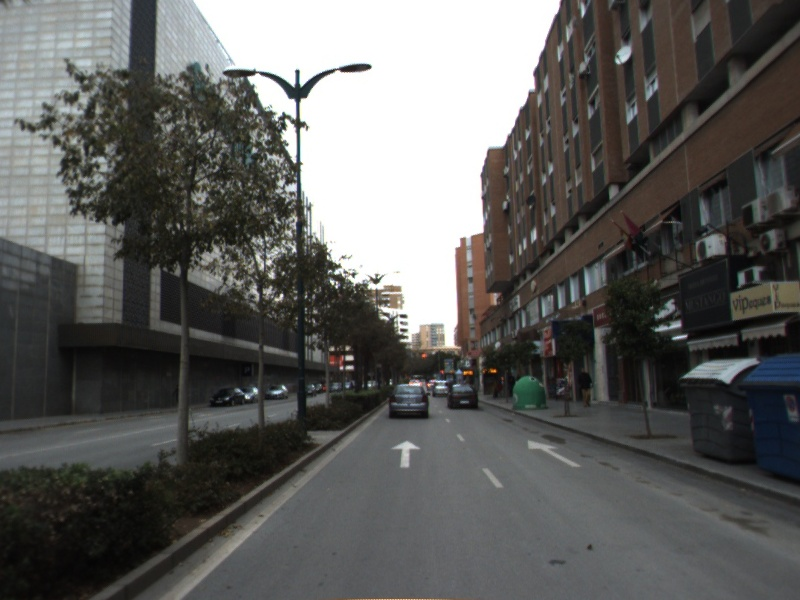STRAIGHT: (526, 438, 584, 469), (389, 438, 423, 470)
